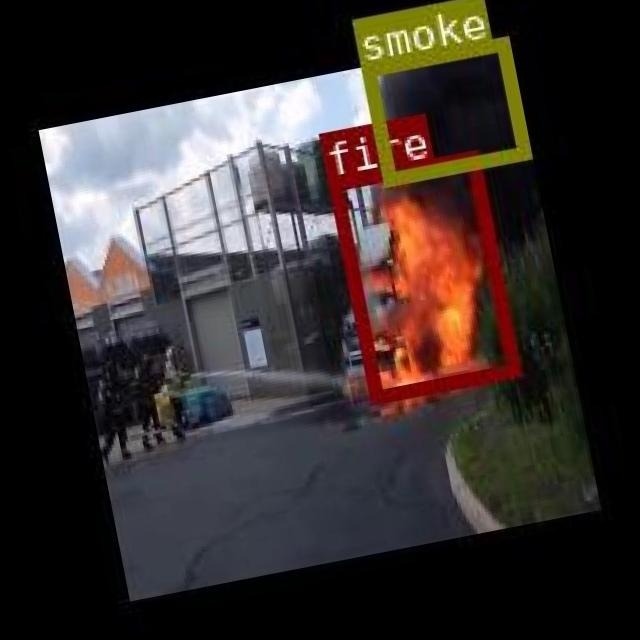fire: (326, 150, 519, 402)
smoke: (358, 36, 528, 184)
